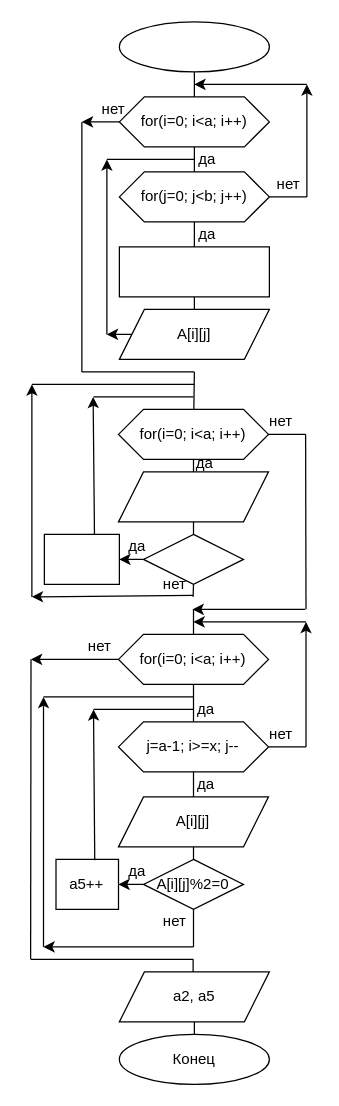
Some shapes in this 339 by 1106 pixel diagram are drawn without their labels. The shapes that lost their labels are listed below. From the top down, each one's box as (x1, y1, x2, y2) in pixels, then its label:
(118, 21, 269, 72): Начало
(118, 246, 269, 297): rand A[i][j]
(117, 471, 268, 522): A[i][i]
(43, 533, 119, 584): a2++
(142, 533, 244, 584): A[i][i]%2=0
